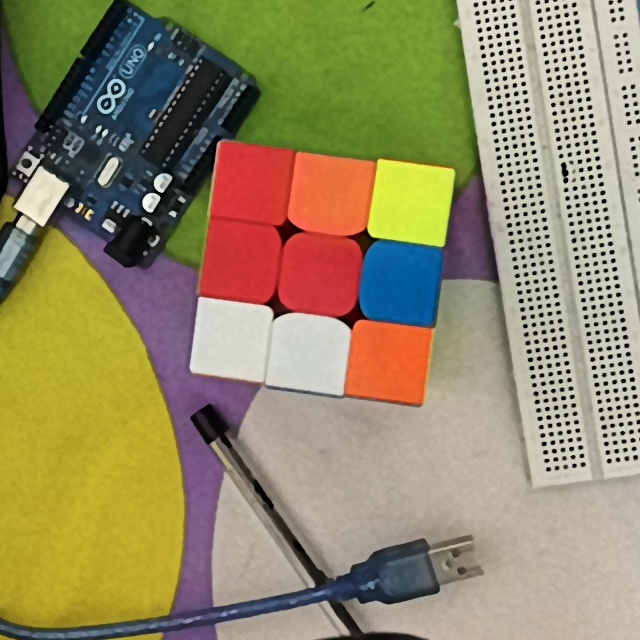tile: (217, 149, 285, 214), (355, 329, 421, 394), (296, 162, 364, 224), (197, 309, 263, 372), (290, 239, 352, 306), (380, 171, 442, 237), (211, 227, 273, 291), (278, 323, 339, 385), (371, 252, 431, 315)
